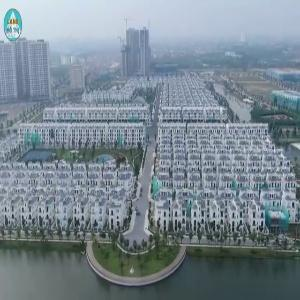drone: (86, 126, 155, 195)
